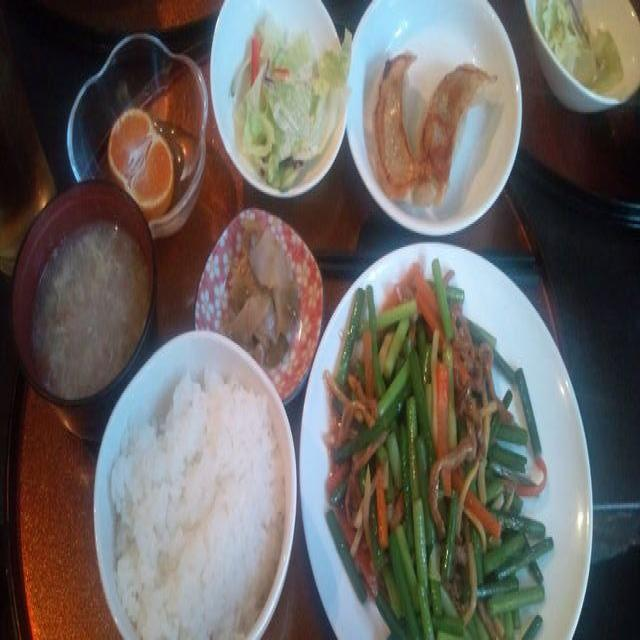Rice: (110, 372, 282, 632)
